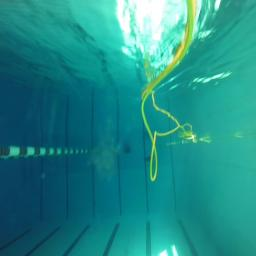Full: (122, 147, 132, 154), (144, 156, 152, 162)
